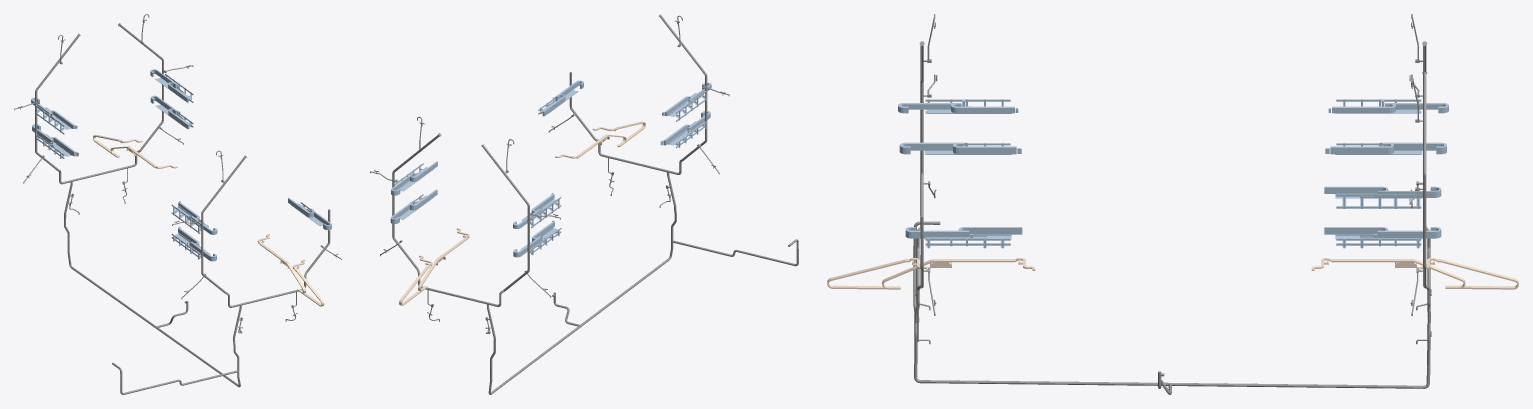
The model's file is Serv-Muon-SW-cut4.glb.
3 views of the same model, side by side, from view 1: azimuth 30°, elevation 25°; view 2: azimuth 150°, elevation 25°; view 3: azimuth 270°, elevation 25° (orthographic). The views are drawn at different scales.
Visible parts, largest first — view 1: Cabbles 3-cut4, Cabbles 2-cut4, Cabbles 1-cut4; view 2: Cabbles 3-cut4, Cabbles 2-cut4, Cabbles 1-cut4; view 3: Cabbles 2-cut4, Cabbles 3-cut4, Cabbles 1-cut4.
Part boxes in pixels (left/top/right/bottom): Cabbles 3-cut4: left=14, top=14, right=341, bottom=394; Cabbles 2-cut4: left=31, top=69, right=331, bottom=261; Cabbles 1-cut4: left=93, top=135, right=324, bottom=306; Cabbles 3-cut4: left=370, top=14, right=798, bottom=394; Cabbles 2-cut4: left=390, top=80, right=711, bottom=257; Cabbles 1-cut4: left=399, top=121, right=645, bottom=305; Cabbles 2-cut4: left=898, top=99, right=1448, bottom=248; Cabbles 3-cut4: left=913, top=14, right=1431, bottom=394; Cabbles 1-cut4: left=827, top=258, right=1518, bottom=289.
Bounding box in the file's own units: 20.95 × 20.28 × 35.
